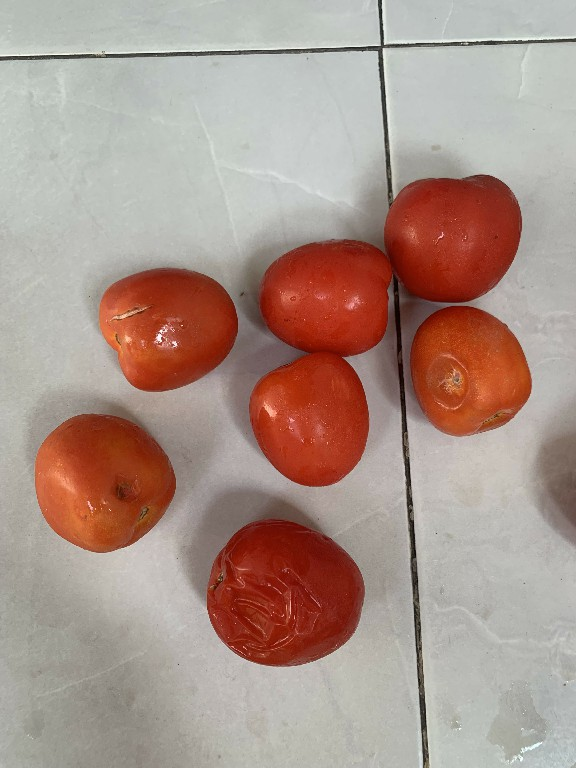NG: (202, 502, 369, 678), (28, 412, 178, 552), (92, 262, 241, 393), (405, 307, 537, 438)
OK: (382, 160, 537, 306), (242, 351, 378, 488), (255, 236, 392, 358)
